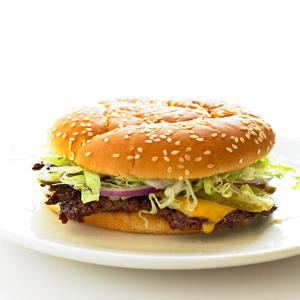cheeseburger: (28, 67, 285, 239)
